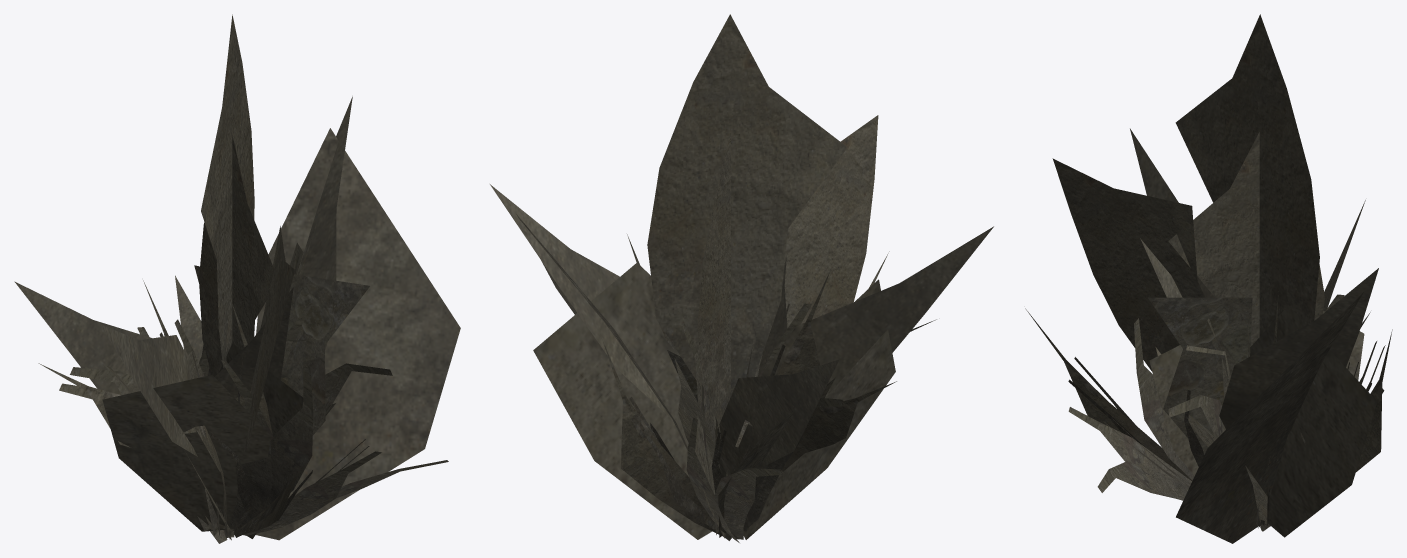
The model's file is SM_GrassMesh_03.fbx.
3 renders of one model, left to right at view 1: azimuth 30°, elevation 25°; view 2: azimuth 150°, elevation 25°; view 3: azimuth 270°, elevation 25°, orthographic.
Visible parts, largest first — view 1: SM_GrassMesh_03; view 2: SM_GrassMesh_03; view 3: SM_GrassMesh_03.
Boxes of the visible parts, x1,y1,x2,y2 form: SM_GrassMesh_03: (14,14,460,543); SM_GrassMesh_03: (490,14,993,542); SM_GrassMesh_03: (1025,14,1392,543).
Bounding box in the file's own units: 22.16 × 18.04 × 27.92.
